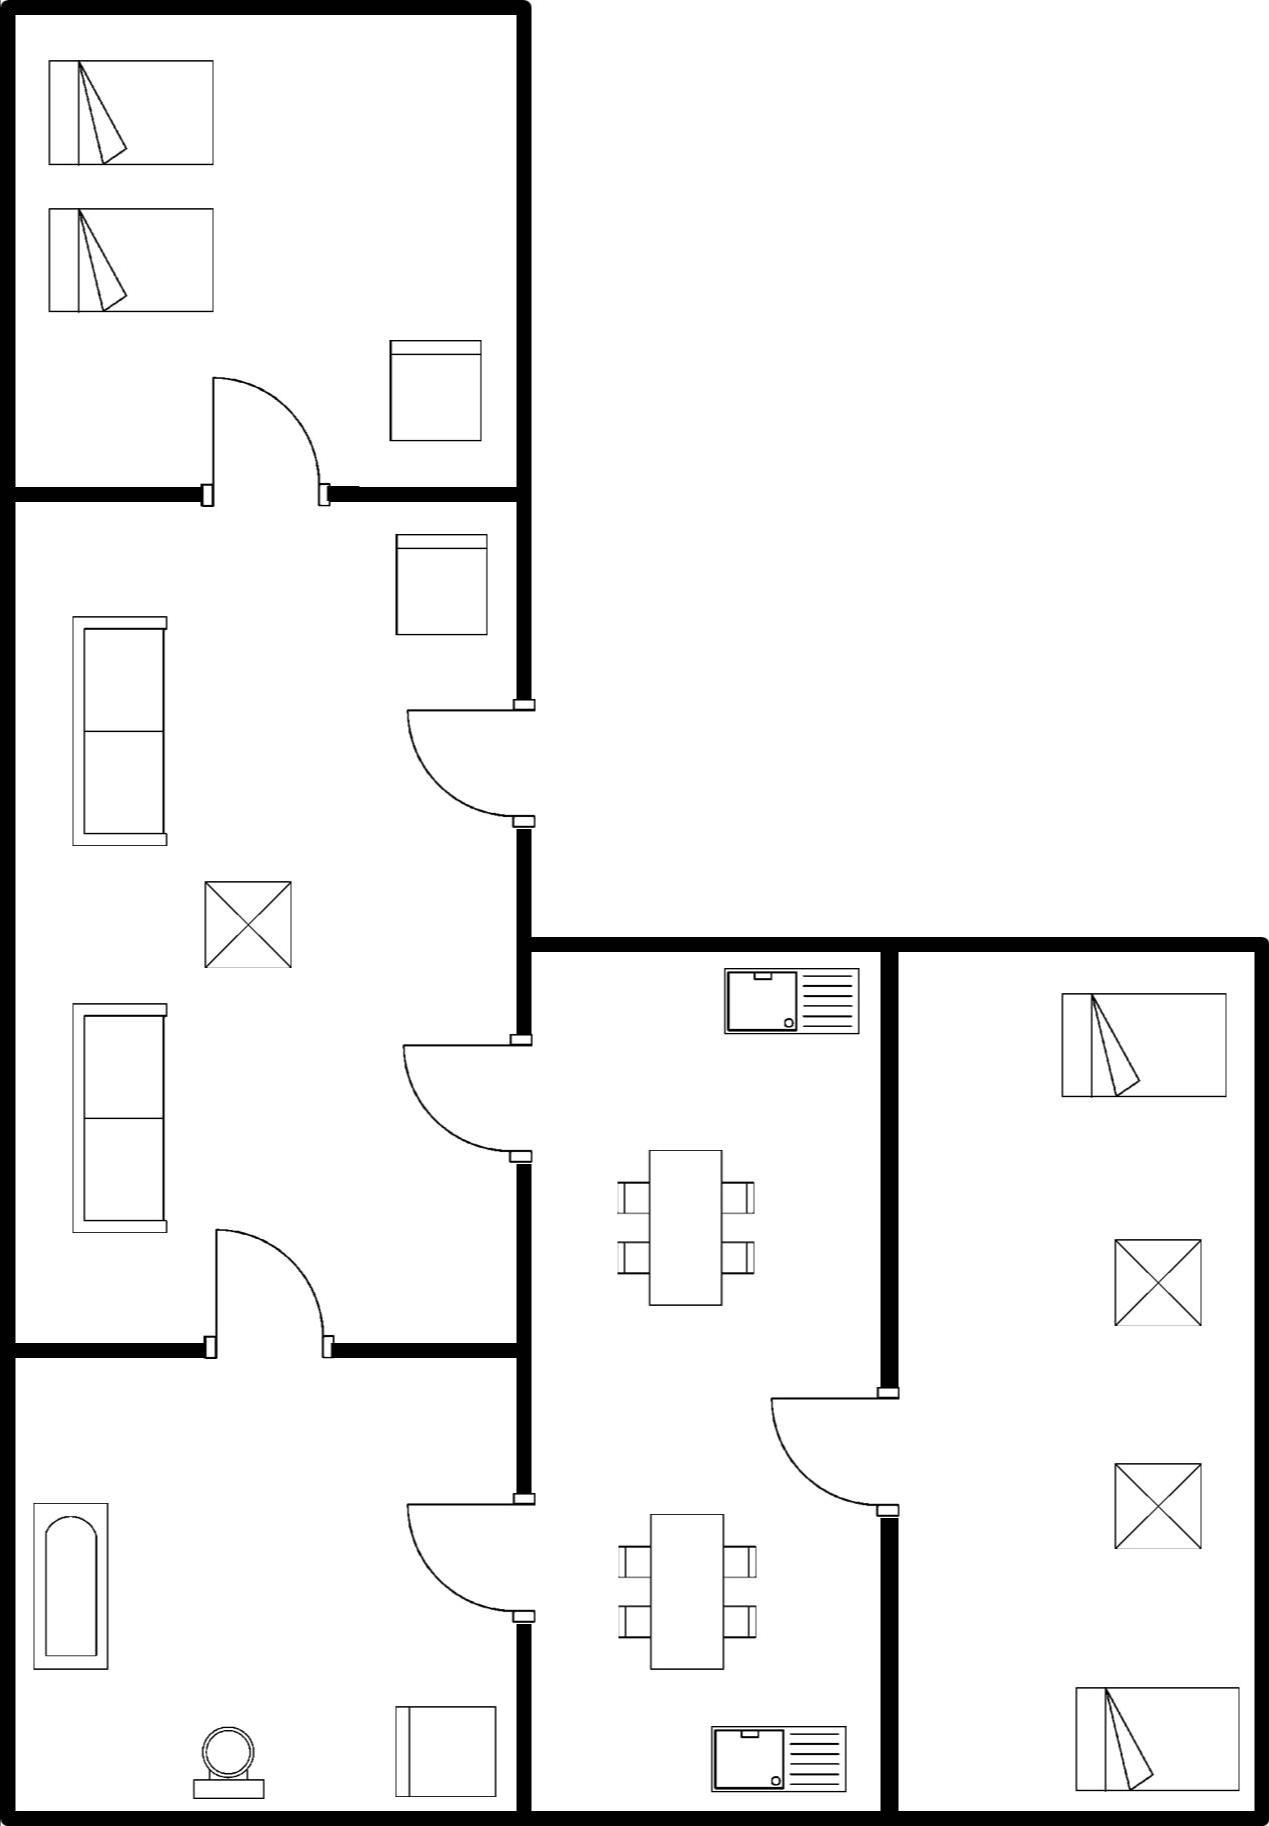bed: (1046, 975, 1233, 1116), (35, 196, 225, 327), (37, 44, 225, 178), (1053, 1673, 1244, 1797)
dining_table: (610, 1501, 768, 1684), (601, 1141, 761, 1317)
sink: (711, 952, 870, 1049), (700, 1714, 863, 1801)
sofa: (58, 604, 176, 863), (62, 993, 183, 1242)
toilet: (178, 1719, 275, 1804)
tub: (24, 1490, 123, 1680)
